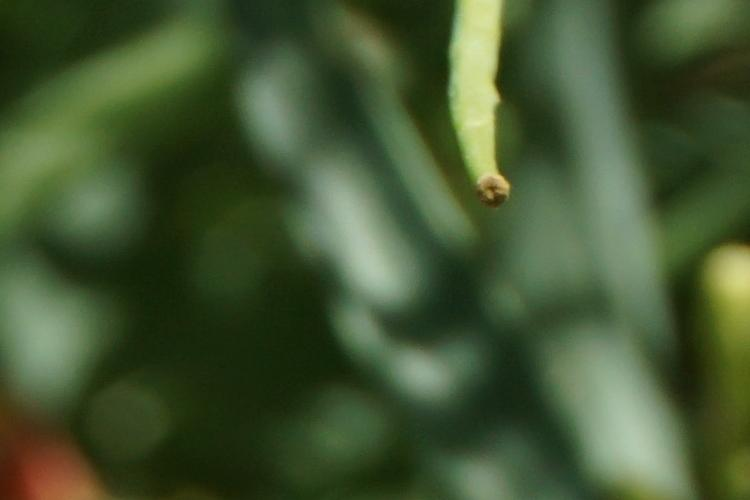pod: (430, 26, 560, 219)
